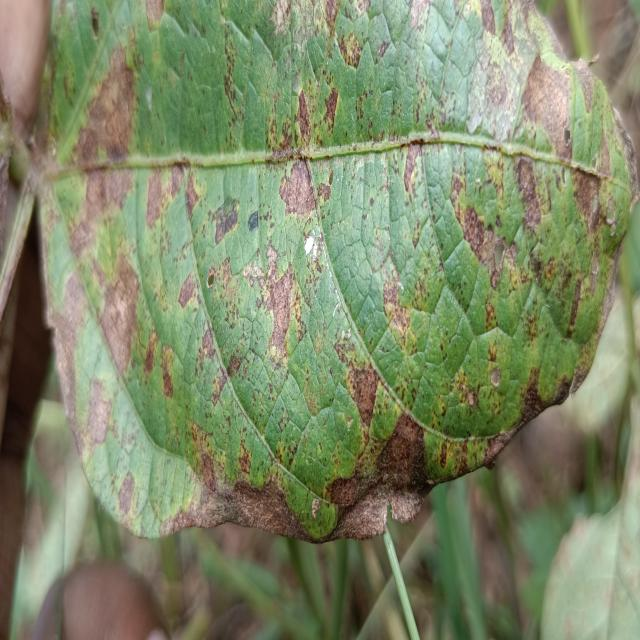Black gram_leaf spot: (36, 0, 640, 552)
